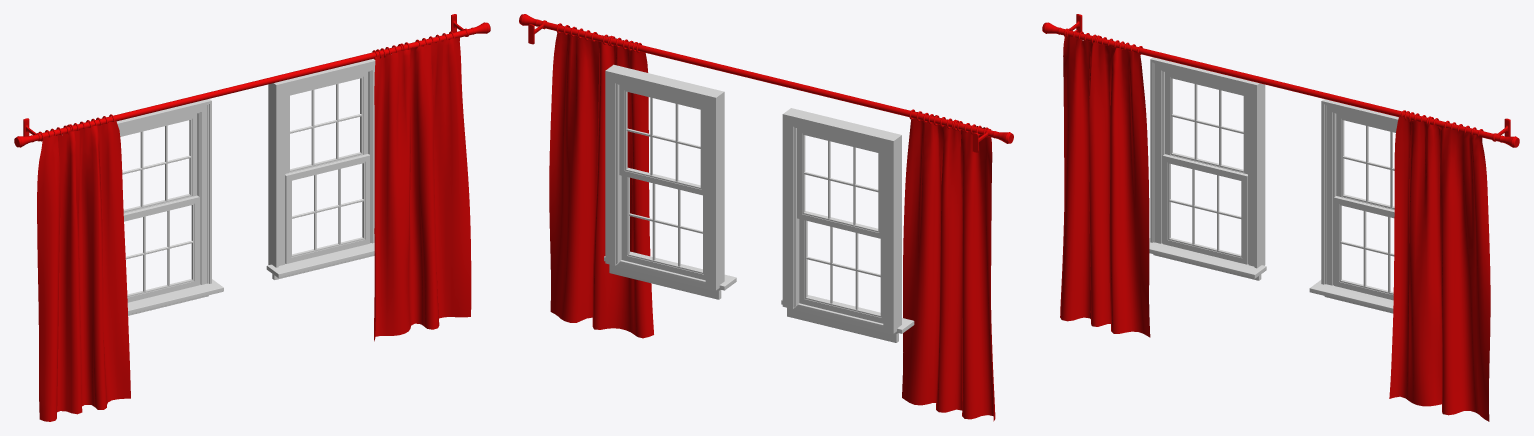
Rendered from Windows.fbx.
The picture shows the model from 3 angles, left to right: view 1: azimuth 30°, elevation 25°; view 2: azimuth 150°, elevation 25°; view 3: azimuth 330°, elevation 25°; orthographic projection. The views are drawn at different scales.
Visible parts, largest first — view 1: Windows_Low_Poly; view 2: Windows_Low_Poly; view 3: Windows_Low_Poly.
Part boxes in pixels (<box>): Windows_Low_Poly: <box>14,14,490,421</box>; Windows_Low_Poly: <box>519,14,1013,421</box>; Windows_Low_Poly: <box>1042,14,1519,421</box>.
Size of the model in its own units: 0.3864 by 0.2268 by 0.0367.
